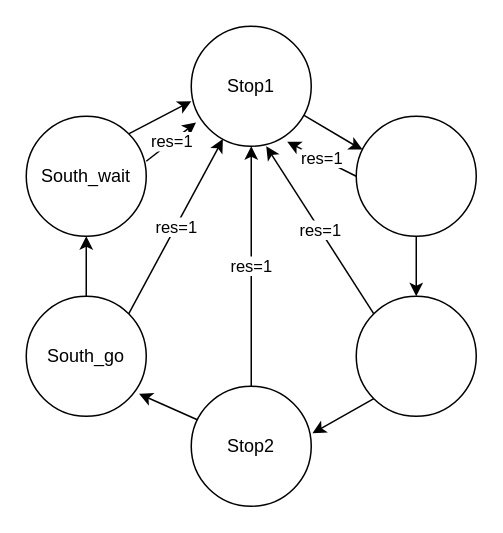
Image size: 503x533. Some labels were removed from this diagram. Here are the shapes that lost their labels. From the top down, the centre of each, then its label:
At point (415, 175): "West_go".
At point (415, 355): "West_wait".
